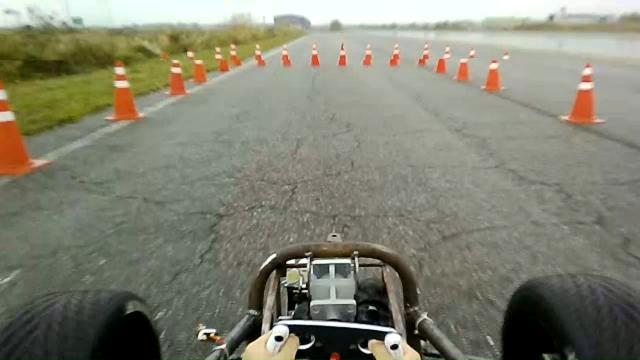red cone: (0, 81, 49, 175), (558, 62, 605, 124), (104, 60, 142, 122), (165, 59, 189, 96), (189, 59, 207, 83), (454, 58, 471, 81), (362, 43, 373, 66), (309, 43, 320, 66), (337, 41, 347, 66)
